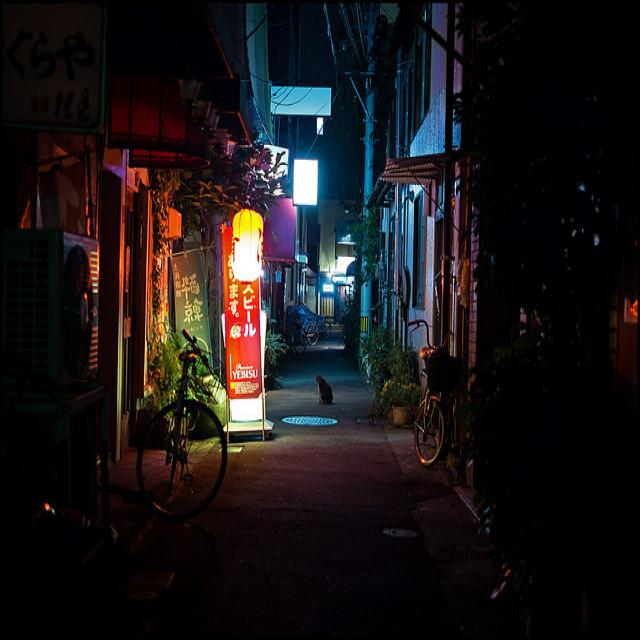Bicycle: (119, 346, 234, 541), (404, 305, 469, 488), (283, 308, 320, 359)
Cat: (315, 360, 338, 429)
